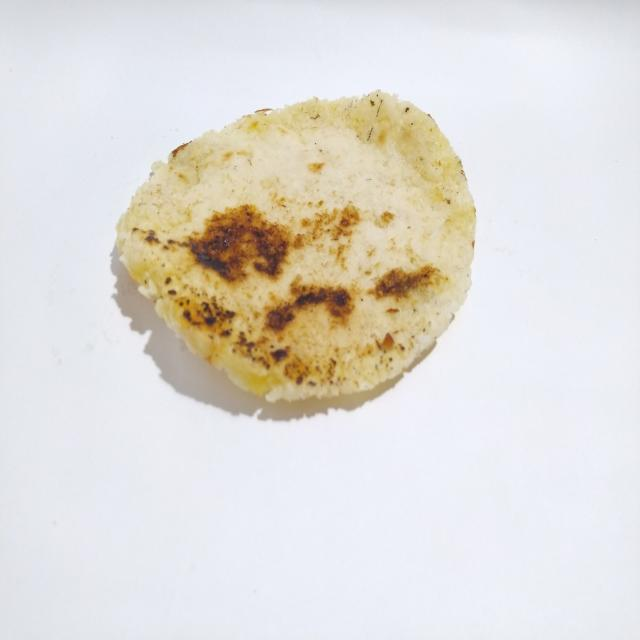Mbeju: (114, 87, 482, 412)
